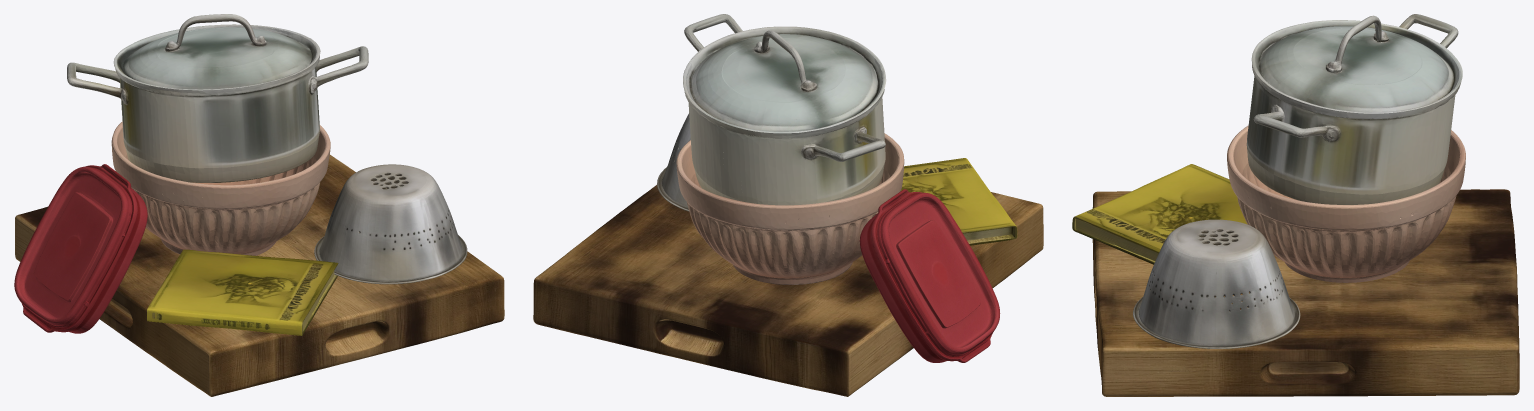
Rendered from phi-scene.glb.
3 renders of one model, left to right at view 1: azimuth 30°, elevation 25°; view 2: azimuth 150°, elevation 25°; view 3: azimuth 270°, elevation 25°, orthographic. The views are drawn at different scales.
Visible parts, largest first — view 1: object_05, object_04, object_02, object_01, object_03, object_00; view 2: object_04, object_05, object_02, object_03, object_00, object_01; view 3: object_04, object_05, object_03, object_01, object_00.
Part boxes in pixels (x1,y1,x2,y2): object_05: (67, 14, 368, 182); object_04: (15, 155, 504, 396); object_02: (14, 164, 147, 333); object_01: (314, 164, 467, 284); object_03: (111, 121, 330, 255); object_00: (147, 249, 338, 335); object_04: (533, 185, 1043, 396); object_05: (683, 14, 886, 205); object_02: (859, 189, 1000, 362); object_03: (676, 133, 904, 284); object_00: (901, 158, 1017, 245); object_01: (657, 113, 690, 211); object_04: (1092, 189, 1519, 396); object_05: (1246, 14, 1462, 204); object_03: (1227, 125, 1465, 282); object_01: (1133, 219, 1300, 348); object_00: (1072, 164, 1247, 264).
Size of the model in its own units: 0.999 by 0.7035 by 0.9813.
Materials: 6 (6 with a texture image).
